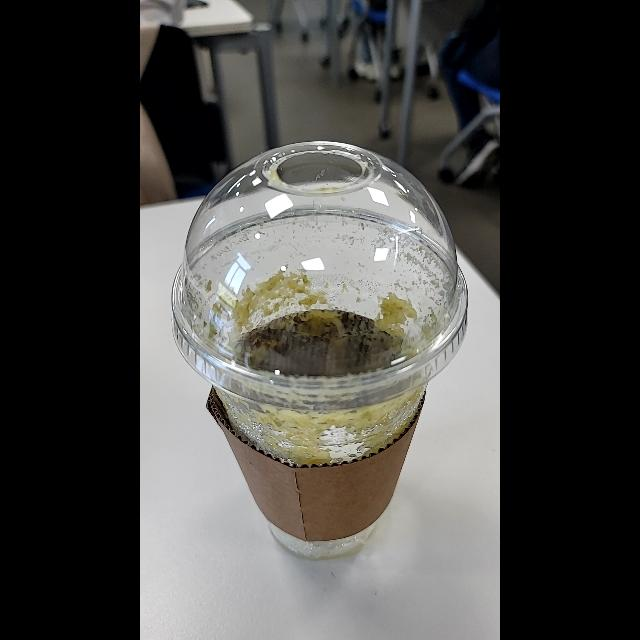plastic_cup: (171, 141, 467, 559)
plastic_cup_lid: (172, 142, 468, 406)
